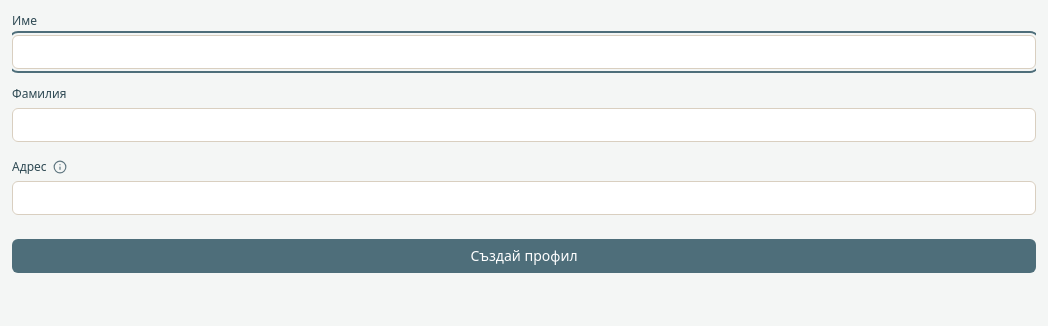
NewProfileForm › shows the action message as an alert
The width and height of the screenshot is (1048, 326).
In the field labelled "Име": x=524, y=52 [12,35,1036,69], type "Кирил"
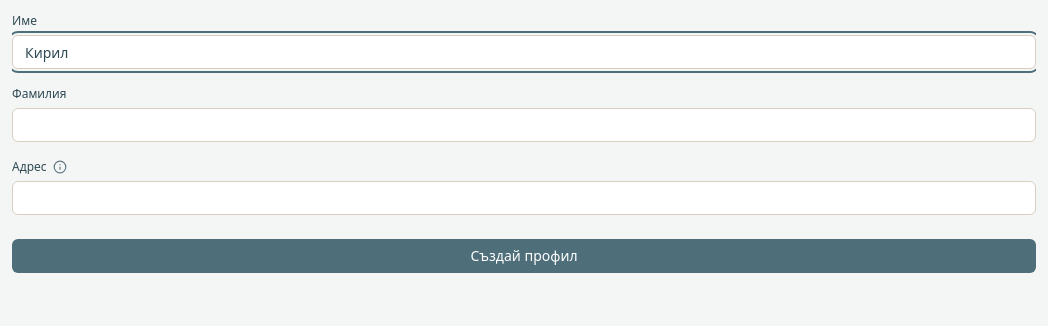
In the field labelled "Фамилия": x=524, y=125 [12,108,1036,142], type "Иванов"
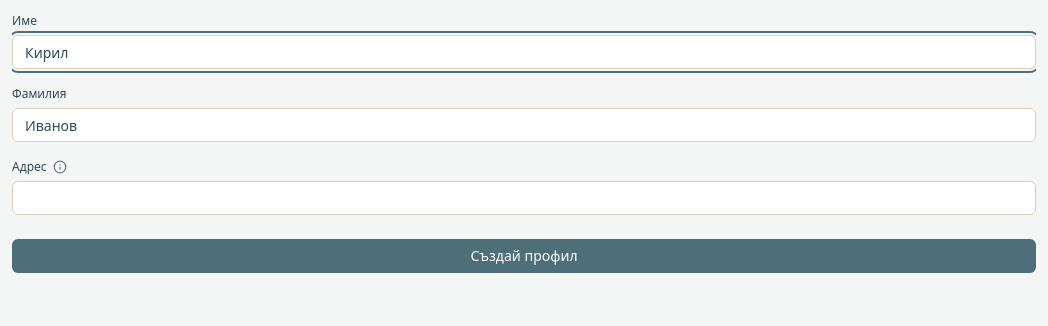
In the field labelled "Адрес": x=524, y=198 [12,181,1036,215], type "kiril"
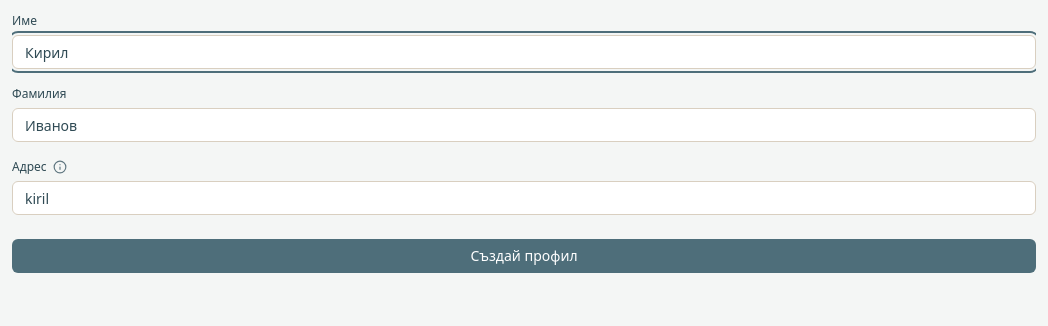
Submit the form from the button "Създай профил", box [12,239,1036,273]
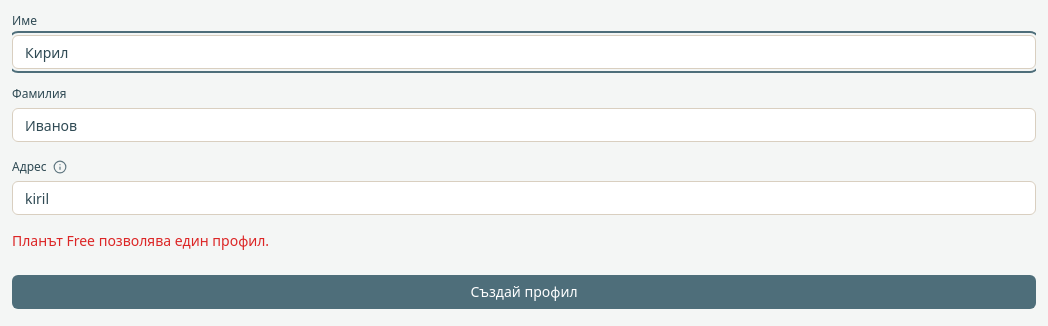
Check: the message reads "Планът Free позволява един профил.", box [12,231,269,250]
